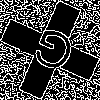G: (25, 25, 79, 83)
